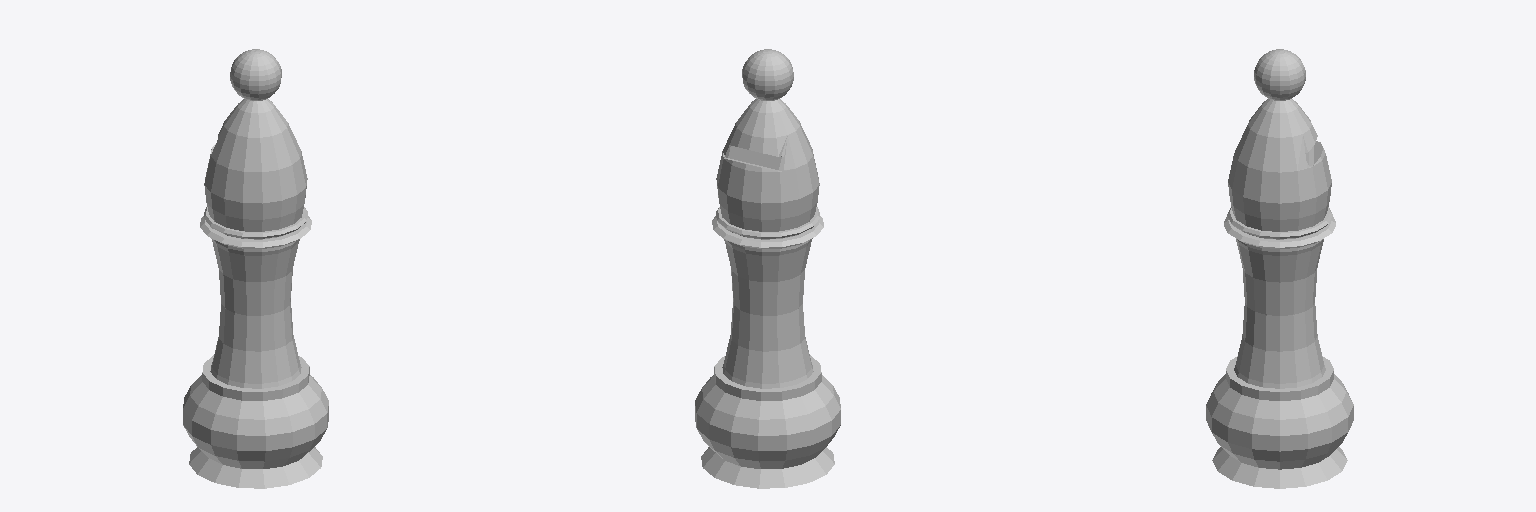
File: bishop.obj
The picture shows the model from 3 angles: view 1: azimuth 30°, elevation 25°; view 2: azimuth 150°, elevation 25°; view 3: azimuth 270°, elevation 25°; orthographic projection.
Parts seen in each view (by area): view 1: bishop; view 2: bishop; view 3: bishop.
Boxes of the visible parts, x1,y1,x2,y2 form: bishop: [183, 49, 328, 488]; bishop: [695, 49, 840, 488]; bishop: [1206, 49, 1353, 488].
Size of the model in its own units: 1.18 by 3.6 by 1.18.